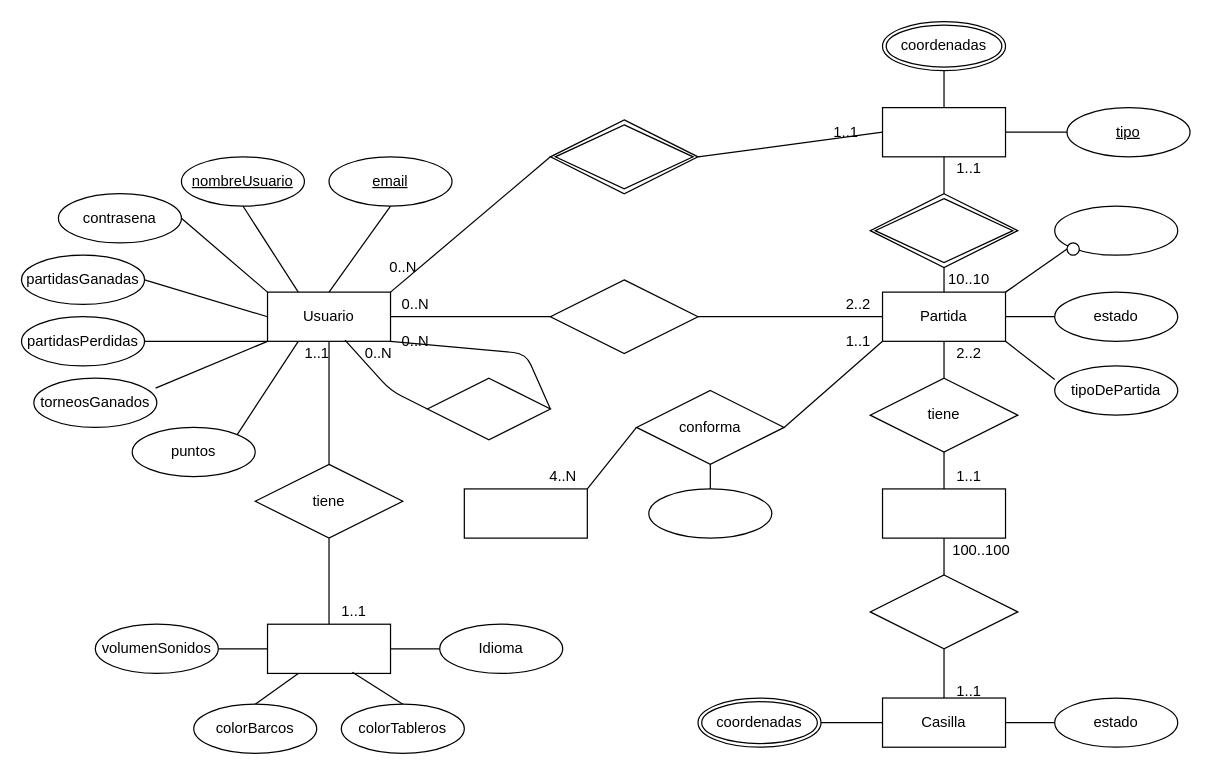
Image size: 1212x775. Some labels were removed from this diagram. The centre of each missing label's shape, as x and y in pixels:
"Barco" goes at (x=943, y=131).
"Configuracion" goes at (x=328, y=648).
"eliminatoria" goes at (x=710, y=513).
"esAmigoDe" goes at (x=488, y=408).
"estanFormadosPor" goes at (x=943, y=611).
"esUsadoEn" goes at (x=943, y=230).
"gana" goes at (x=1115, y=230).
"participaEn" goes at (x=623, y=316).
"posee" goes at (x=623, y=156).
"Tablero" goes at (x=943, y=513).
"Torneo" goes at (x=525, y=513).
